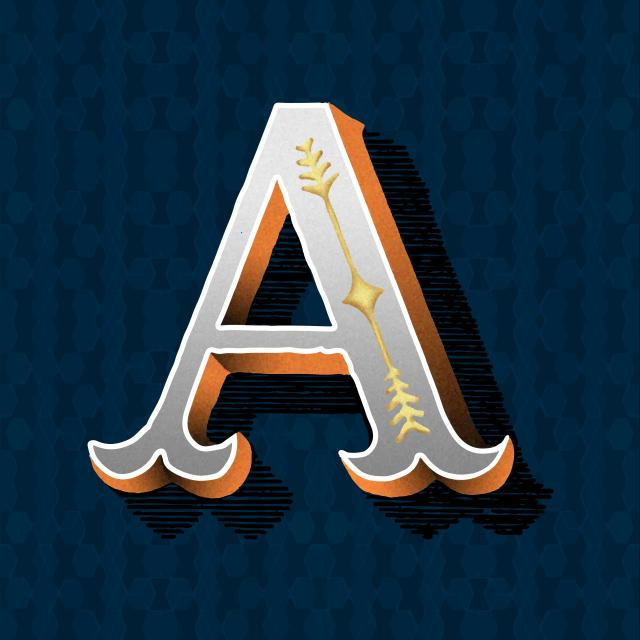A: (46, 60, 560, 557)
